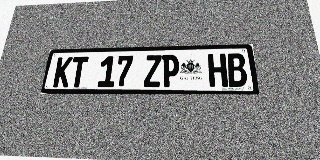1: (97, 56, 117, 87)
7: (114, 56, 133, 87)
B: (226, 53, 248, 87)
H: (208, 54, 228, 87)
K: (52, 57, 73, 87)
P: (161, 55, 179, 87)
T: (69, 57, 89, 87)
Z: (143, 55, 162, 87)
